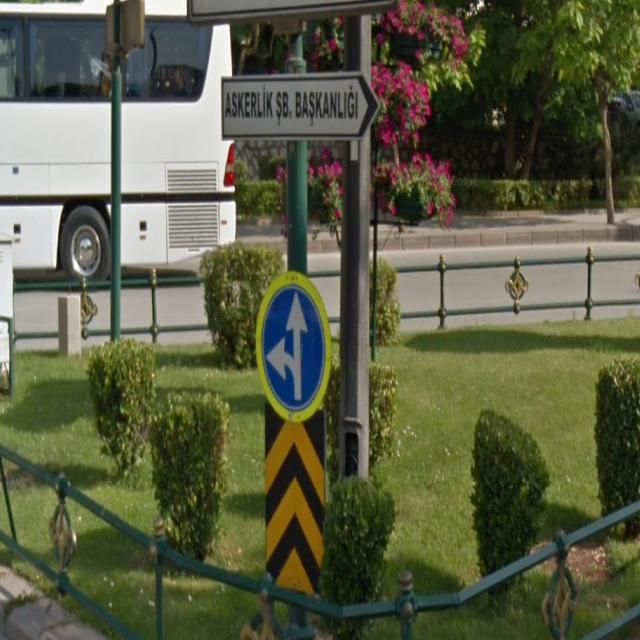ilerisol: (260, 286, 326, 412)
